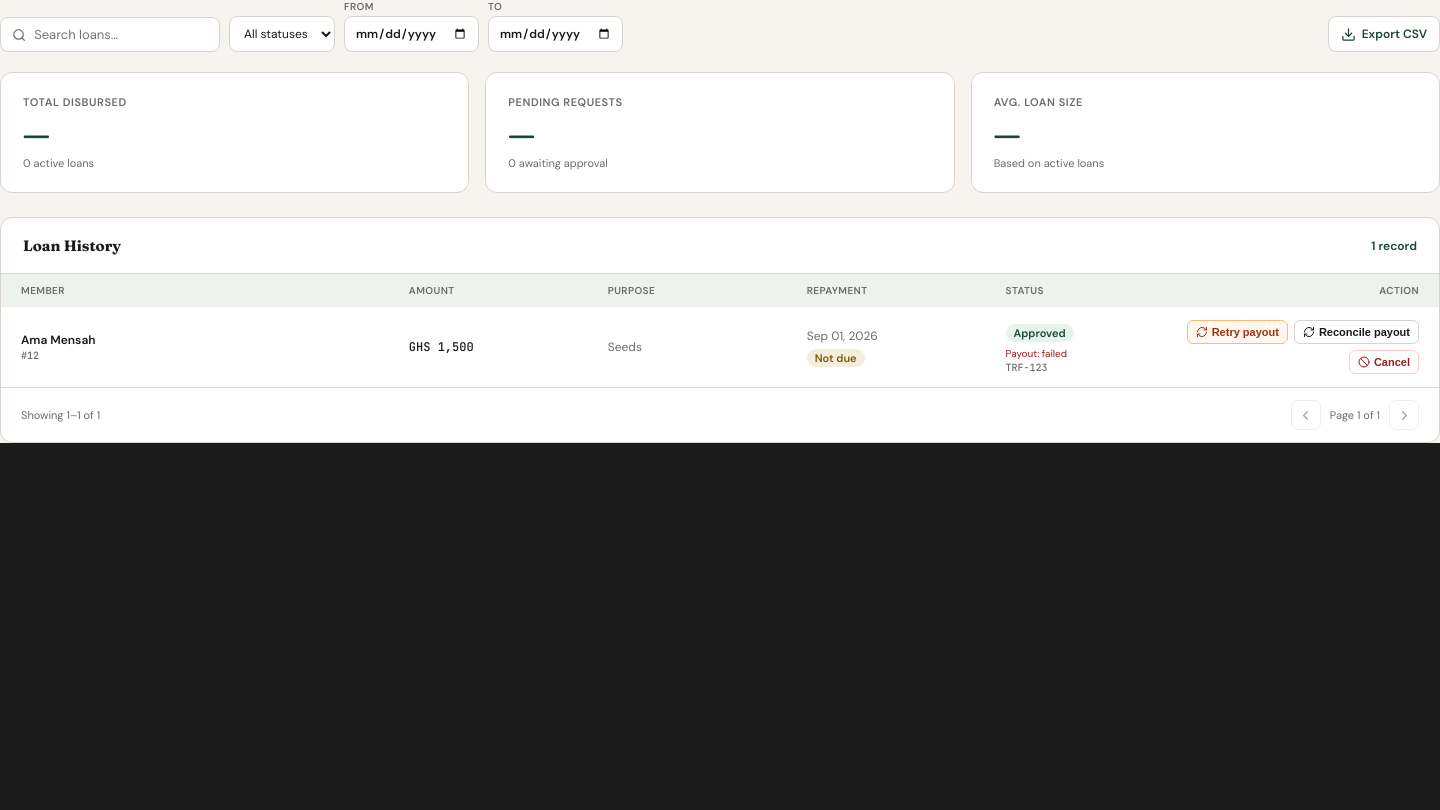
Test case: Loans operations › shows explicit failed-payout recovery and eligible cancellation actions
Check: the text "Payout: failed" is shown, box [1006,346,1067,360]
Check: the button "Retry payout" is shown, box [1187,320,1288,344]
Click the button "Cancel" at (1384, 362), box [1349,350,1419,374]
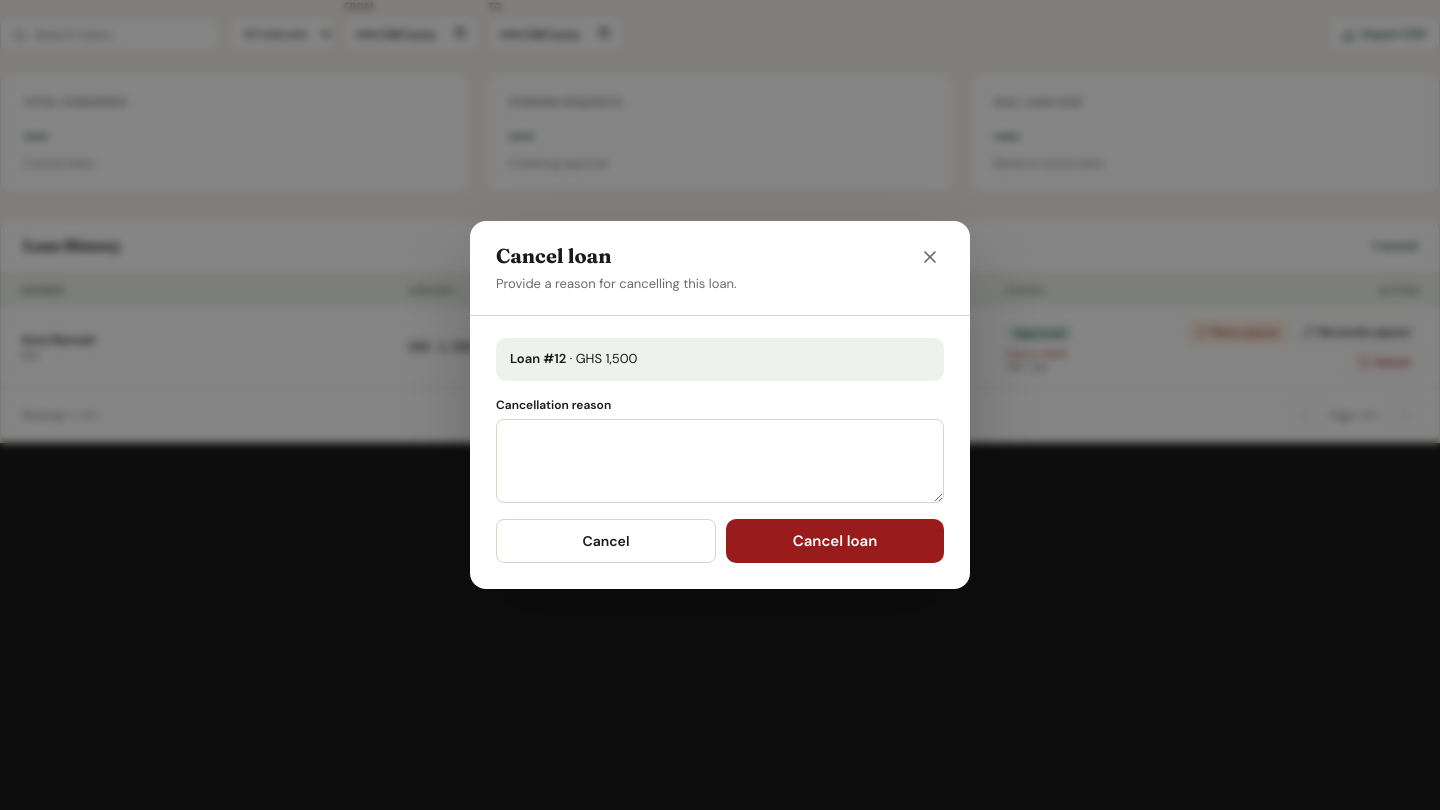
Check: the dialog "Cancel loan" is shown, box [470,221,970,589]
Click the button "Cancel loan" at (835, 541), box [726,519,944,563]
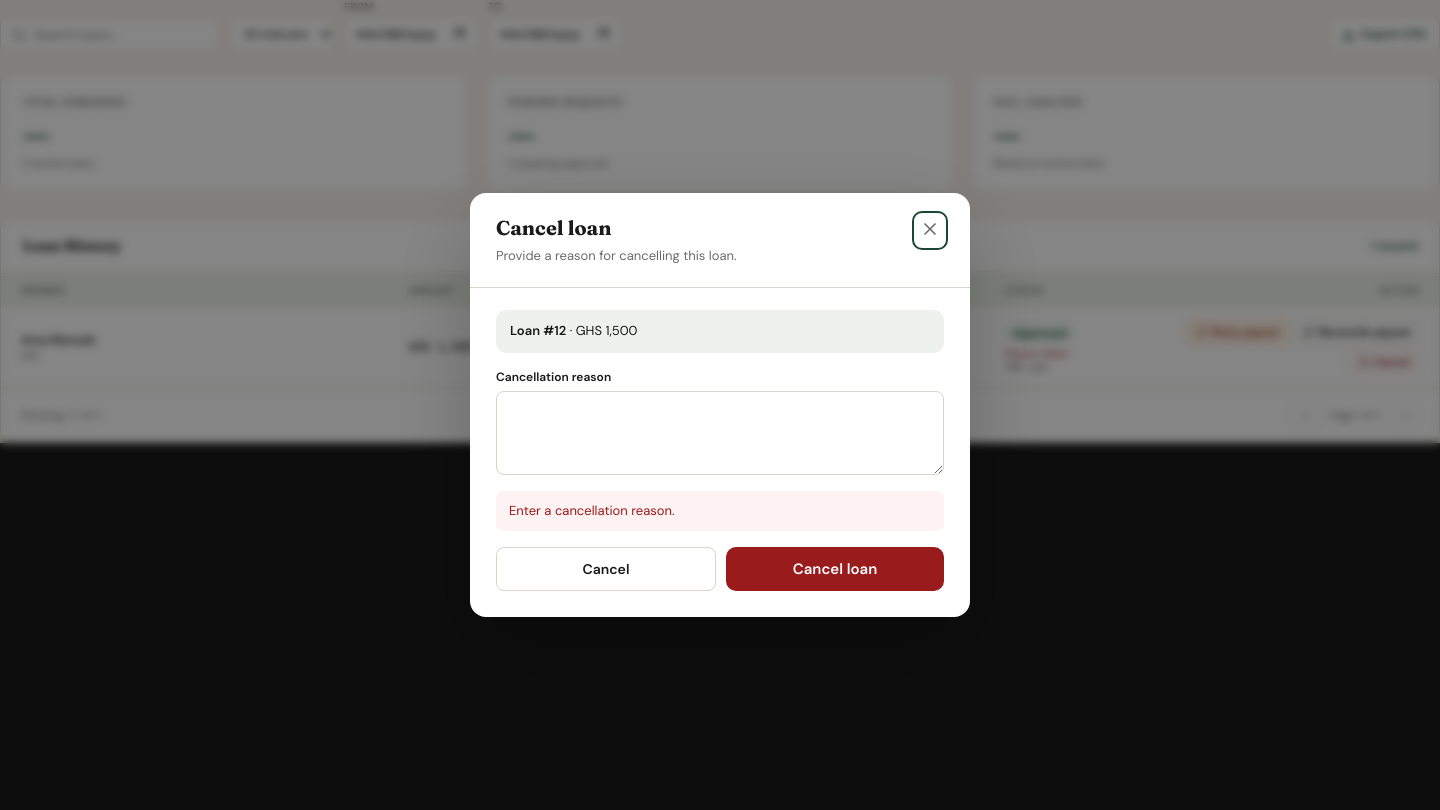
Check: the message shows "Enter a cancellation reason", box [509,502,674,519]
